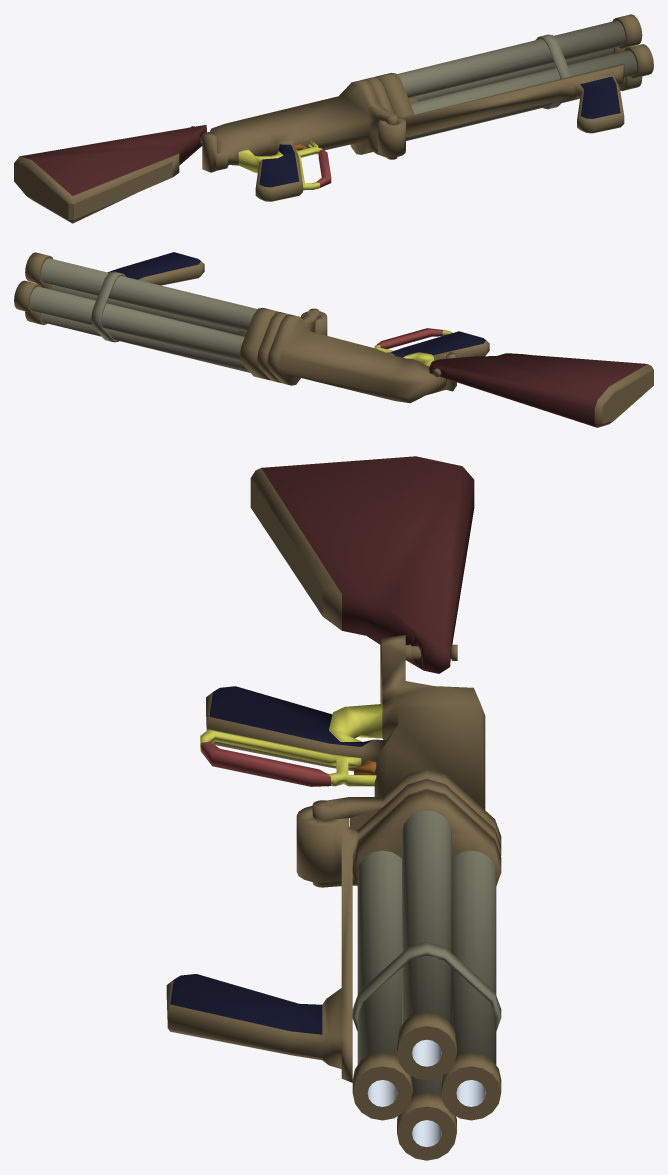
File: steampunk_shotgun.obj
3 renders of one model, top to bottom at view 1: azimuth 30°, elevation 25°; view 2: azimuth 150°, elevation 25°; view 3: azimuth 270°, elevation 25°, orthographic. The views are drawn at different scales.
Parts seen in each view (by area): view 1: Circle.027_Circle.024, Circle.033_Circle.047, Circle.031_Circle.040, Circle.024_Circle.007, lever_Cube.003; view 2: Circle.027_Circle.024, Circle.033_Circle.047, Circle.031_Circle.040, Circle.024_Circle.007, lever_Cube.003; view 3: Circle.027_Circle.024, Circle.031_Circle.040, Circle.033_Circle.047, Circle.024_Circle.007, lever_Cube.003, Circle.022_Circle.048.
Part boxes in pixels (left/top/right/bottom): Circle.027_Circle.024: left=374, top=14, right=653, bottom=140; Circle.033_Circle.047: left=191, top=80, right=397, bottom=201; Circle.031_Circle.040: left=14, top=125, right=206, bottom=223; Circle.024_Circle.007: left=362, top=63, right=624, bottom=157; lever_Cube.003: left=295, top=140, right=331, bottom=190; Circle.027_Circle.024: left=14, top=252, right=278, bottom=380; Circle.033_Circle.047: left=267, top=308, right=489, bottom=403; Circle.031_Circle.040: left=429, top=353, right=653, bottom=427; Circle.024_Circle.007: left=108, top=252, right=327, bottom=382; lever_Cube.003: left=374, top=328, right=452, bottom=352; Circle.027_Circle.024: left=352, top=790, right=501, bottom=1160; Circle.031_Circle.040: left=250, top=456, right=474, bottom=673; Circle.033_Circle.047: left=206, top=635, right=501, bottom=887; Circle.024_Circle.007: left=166, top=779, right=501, bottom=1082; lever_Cube.003: left=200, top=728, right=376, bottom=786; Circle.022_Circle.048: left=367, top=1039, right=486, bottom=1146.
Size of the model in its own units: 3.09 by 0.3682 by 0.7735.
